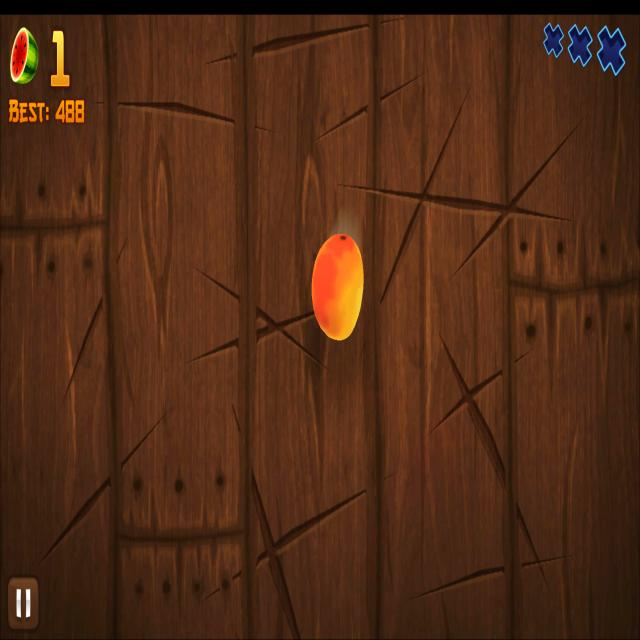fruit: (310, 234, 364, 342)
